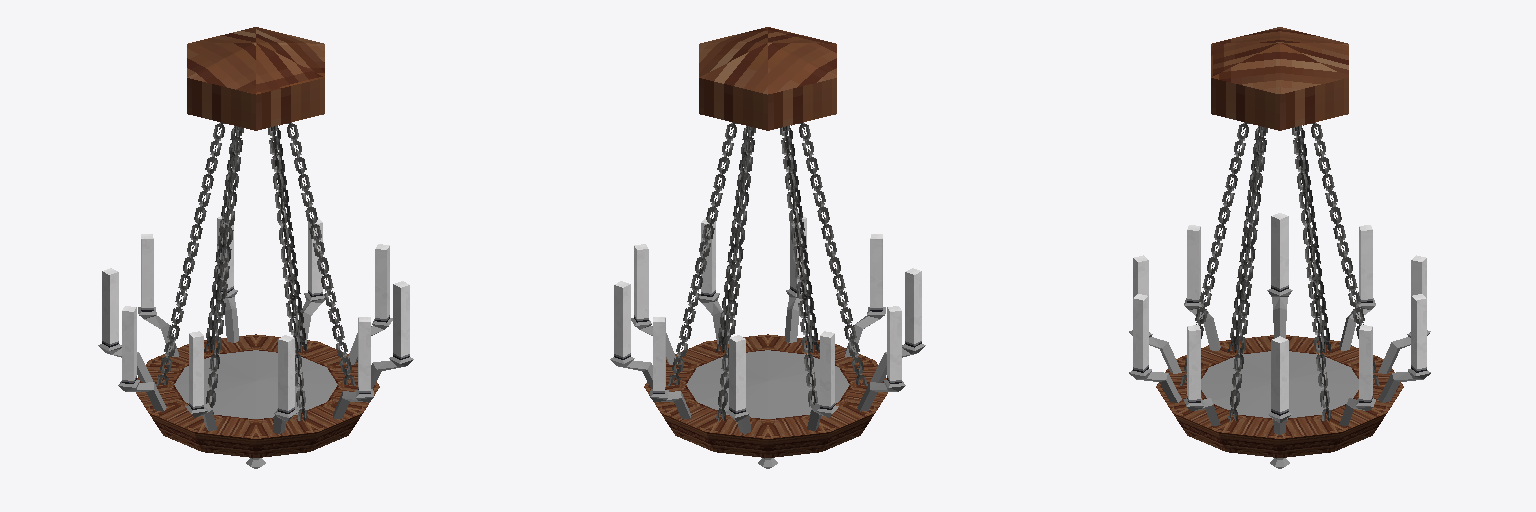
3 views of the same model, side by side, from view 1: azimuth 30°, elevation 25°; view 2: azimuth 150°, elevation 25°; view 3: azimuth 270°, elevation 25° (orthographic).
Visible parts, largest first — view 1: Base, Lounge_Lamp_1, Lounge_Lamp_5, Lounge_Lamp_4, Lounge_Lamp_2, Lounge_Lamp_3; view 2: Base, Lounge_Lamp_1, Lounge_Lamp_5, Lounge_Lamp_4, Lounge_Lamp_2, Lounge_Lamp_3; view 3: Base, Lounge_Lamp_4, Lounge_Lamp_1, Lounge_Lamp_5, Lounge_Lamp_2, Lounge_Lamp_3.
Boxes of the visible parts, x1=… form: Base: x1=187, y1=27, x2=324, y2=130; Lounge_Lamp_1: x1=136, y1=334, x2=379, y2=457; Lounge_Lamp_5: x1=156, y1=122, x2=355, y2=421; Lounge_Lamp_4: x1=102, y1=216, x2=409, y2=413; Lounge_Lamp_2: x1=174, y1=350, x2=337, y2=468; Lounge_Lamp_3: x1=98, y1=289, x2=413, y2=433; Base: x1=699, y1=27, x2=836, y2=130; Lounge_Lamp_1: x1=644, y1=334, x2=887, y2=457; Lounge_Lamp_5: x1=668, y1=122, x2=867, y2=421; Lounge_Lamp_4: x1=614, y1=216, x2=921, y2=413; Lounge_Lamp_2: x1=686, y1=350, x2=849, y2=468; Lounge_Lamp_3: x1=610, y1=289, x2=925, y2=433; Base: x1=1211, y1=27, x2=1348, y2=130; Lounge_Lamp_4: x1=1133, y1=213, x2=1426, y2=415; Lounge_Lamp_1: x1=1156, y1=335, x2=1403, y2=457; Lounge_Lamp_5: x1=1180, y1=122, x2=1379, y2=421; Lounge_Lamp_2: x1=1201, y1=351, x2=1358, y2=468; Lounge_Lamp_3: x1=1129, y1=289, x2=1430, y2=434.
Size of the model in its own units: 7.94 by 11.74 by 7.55.
6 materials, 4 textured.